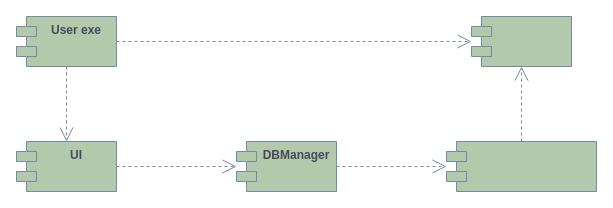
This 613x208 diagram has some shape labels left out. Each missing label, with the centre of its shape:
Local Files: the point at 521,41
PersistanceManager: the point at 521,166
